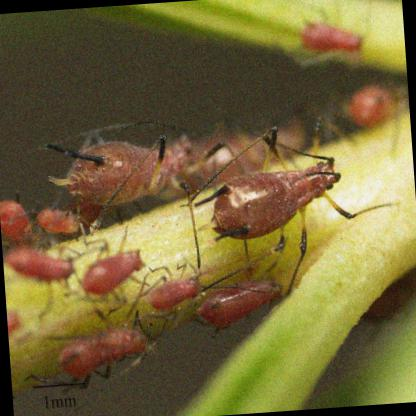uroleucon compositae: (196, 161, 354, 258)
